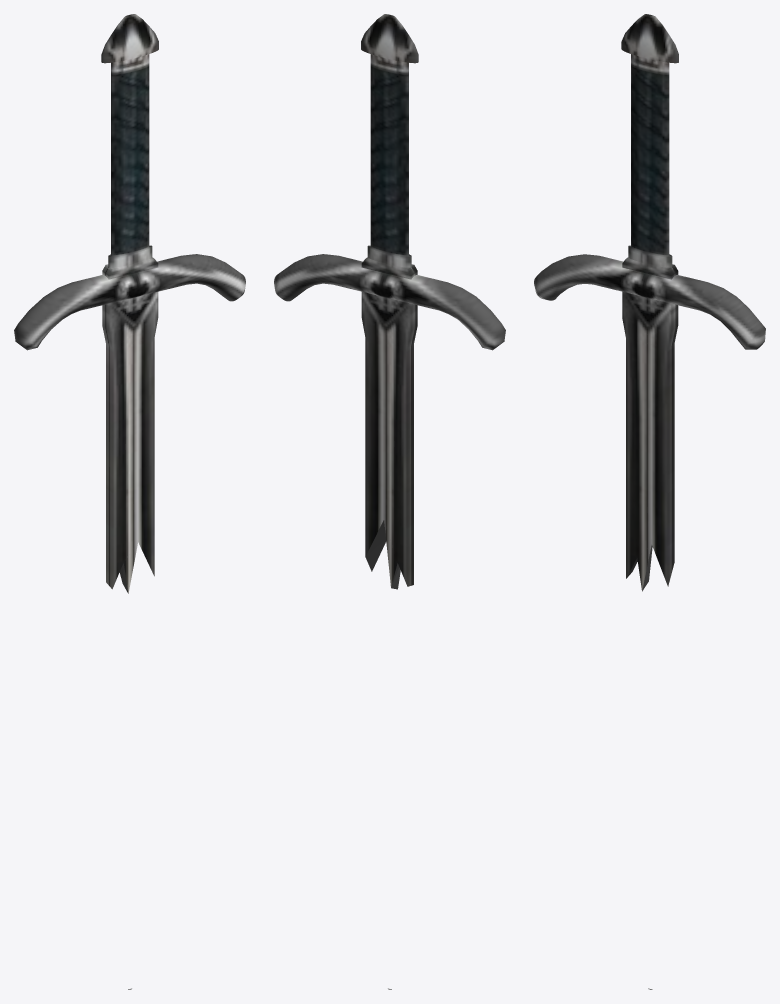
The model's file is Broken_sword.dae.
The picture shows the model from 3 angles, left to right: view 1: azimuth 30°, elevation 25°; view 2: azimuth 150°, elevation 25°; view 3: azimuth 330°, elevation 25°; orthographic projection.
Parts seen in each view (by area): view 1: Cube; view 2: Cube; view 3: Cube.
Part boxes in pixels (x1,y1,x2,y2): Cube: [14, 14, 245, 989]; Cube: [274, 14, 505, 989]; Cube: [534, 14, 765, 989].
Bounding box in the file's own units: 1.9 × 0.2163 × 7.77.
1 material, 1 textured.
